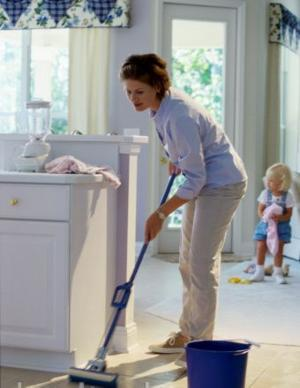person: (120, 54, 248, 369)
